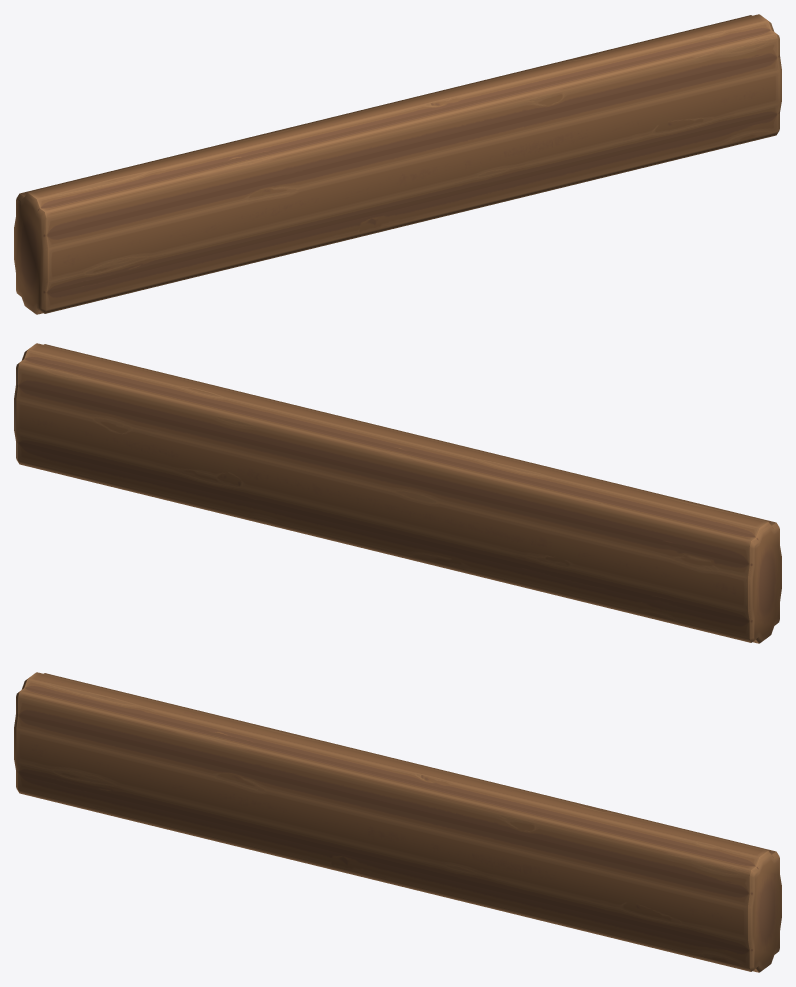
File: ARC0510096.fbx
The picture shows the model from 3 angles, top to bottom: view 1: azimuth 30°, elevation 25°; view 2: azimuth 150°, elevation 25°; view 3: azimuth 330°, elevation 25°; orthographic projection.
Visible parts, largest first — view 1: smARC0510096; view 2: smARC0510096; view 3: smARC0510096.
Part boxes in pixels (left/top/right/bottom): smARC0510096: left=14, top=14, right=781, bottom=314; smARC0510096: left=14, top=343, right=781, bottom=643; smARC0510096: left=14, top=672, right=781, bottom=972.
Bounding box in the file's own units: 300 × 44.91 × 22.45.
1 material, 1 textured.
